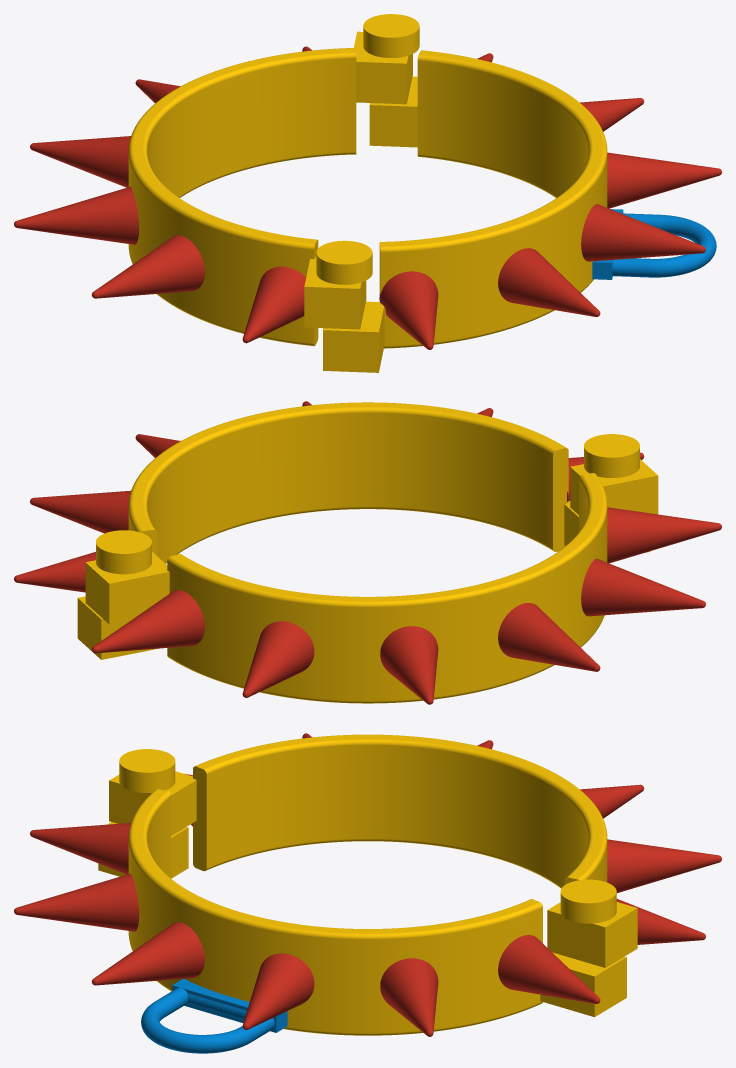
Rendered from large-spike-collar.glb.
The picture shows the model from 3 angles, top to bottom: view 1: azimuth 30°, elevation 25°; view 2: azimuth 150°, elevation 25°; view 3: azimuth 270°, elevation 25°; orthographic projection.
Parts seen in each view (by area): view 1: display-part-002, display-part-001, display-part-006, display-part-013, display-part-014, display-part-005, display-part-007, display-part-003, display-part-004, display-part-015, display-part-012, display-part-016 (+2 smaller); view 2: display-part-001, display-part-002, display-part-014, display-part-010, display-part-013, display-part-015, display-part-011, display-part-012, display-part-008, display-part-017, display-part-016, display-part-009 (+1 smaller); view 3: display-part-002, display-part-001, display-part-003, display-part-005, display-part-006, display-part-009, display-part-011, display-part-007, display-part-008, display-part-004, display-part-017, display-part-016 (+2 smaller).
Part boxes in pixels (left/top/right/bottom): display-part-002: left=128, top=31, right=412, bottom=346; display-part-001: left=323, top=50, right=607, bottom=372; display-part-006: left=581, top=204, right=705, bottom=261; display-part-013: left=14, top=186, right=139, bottom=244; display-part-014: left=91, top=235, right=204, bottom=298; display-part-005: left=498, top=248, right=600, bottom=316; display-part-007: left=607, top=152, right=721, bottom=208; display-part-003: left=592, top=209, right=716, bottom=279; display-part-004: left=379, top=271, right=438, bottom=349; display-part-015: left=242, top=266, right=306, bottom=343; display-part-012: left=30, top=136, right=130, bottom=187; display-part-016: left=316, top=240, right=372, bottom=284; display-part-001: left=77, top=402, right=650, bottom=659; display-part-002: left=85, top=459, right=658, bottom=703; display-part-014: left=581, top=558, right=705, bottom=616; display-part-010: left=91, top=590, right=204, bottom=653; display-part-013: left=498, top=603, right=600, bottom=671; display-part-015: left=607, top=507, right=721, bottom=563; display-part-011: left=242, top=621, right=314, bottom=697; display-part-012: left=380, top=626, right=438, bottom=704; display-part-008: left=30, top=490, right=130, bottom=533; display-part-017: left=96, top=530, right=151, bottom=574; display-part-016: left=584, top=434, right=639, bottom=477; display-part-009: left=14, top=552, right=95, bottom=592; display-part-002: left=109, top=734, right=637, bottom=967; display-part-001: left=98, top=789, right=626, bottom=1035; display-part-003: left=141, top=978, right=287, bottom=1053; display-part-005: left=14, top=873, right=139, bottom=931; display-part-006: left=91, top=922, right=204, bottom=985; display-part-009: left=498, top=935, right=600, bottom=1003; display-part-011: left=607, top=839, right=721, bottom=892; display-part-007: left=242, top=953, right=314, bottom=1029; display-part-008: left=380, top=958, right=438, bottom=1036; display-part-004: left=30, top=823, right=130, bottom=874; display-part-017: left=560, top=879, right=616, bottom=923; display-part-016: left=119, top=749, right=175, bottom=792.
Size of the model in its own units: 3 by 0.5135 by 3.
